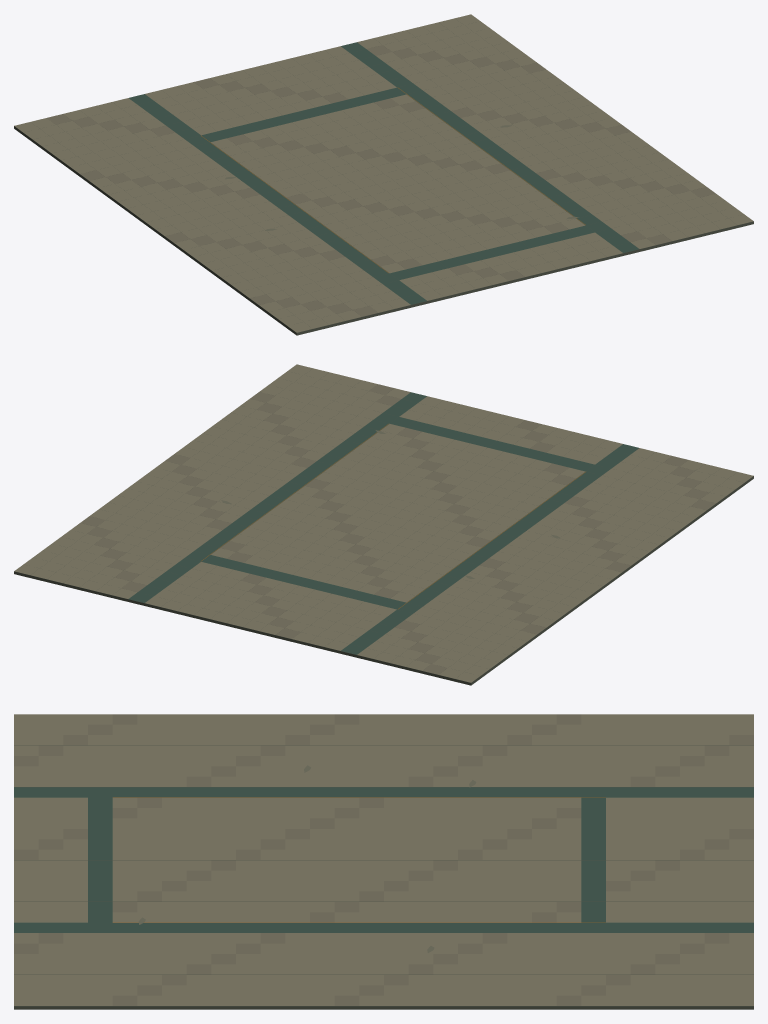
The model's file is hall_floor.obj.
3 renders of one model, top to bottom at view 1: azimuth 30°, elevation 25°; view 2: azimuth 150°, elevation 25°; view 3: azimuth 270°, elevation 25°, orthographic. The views are drawn at different scales.
Parts seen in each view (by area): view 1: tiles_floor_main, tiles_floor_alt, tiles_floor_edge, grout_bed; view 2: tiles_floor_main, tiles_floor_alt, tiles_floor_edge, grout_bed; view 3: tiles_floor_main, tiles_floor_alt, tiles_floor_edge, grout_bed, floor_inlay.
Boxes of the visible parts, x1,y1,x2,y2 form: tiles_floor_main: (14, 14, 753, 332); tiles_floor_alt: (47, 45, 715, 316); tiles_floor_edge: (129, 42, 639, 304); grout_bed: (14, 30, 753, 335); tiles_floor_main: (14, 364, 753, 682); tiles_floor_alt: (80, 384, 715, 674); tiles_floor_edge: (128, 392, 638, 654); grout_bed: (14, 380, 753, 685); tiles_floor_main: (14, 714, 753, 1005); tiles_floor_alt: (14, 714, 753, 1005); tiles_floor_edge: (14, 787, 753, 932); grout_bed: (14, 745, 753, 1009); floor_inlay: (113, 797, 605, 922).
Size of the model in its own units: 28 by 0.169 by 30.
